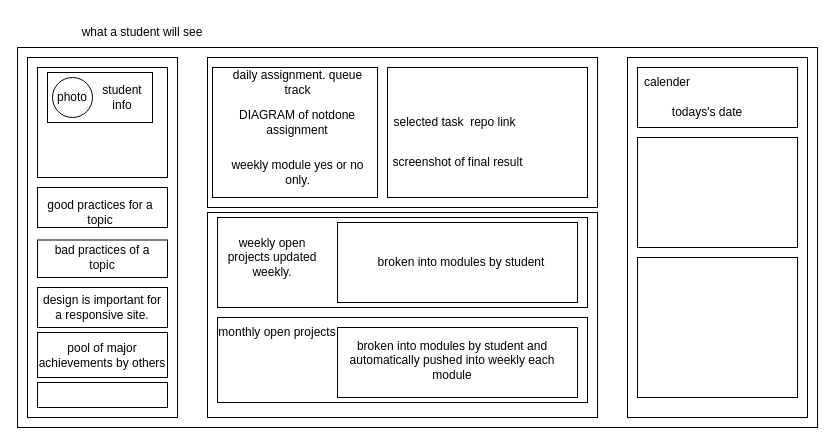
Image size: 835x445. Some labels were removed from this diagram. The centre of each missing label's shape, as x and y in pixels:
bookmarked medium article: the point at 717,327
events: the point at 717,192
post your problem: the point at 102,395
